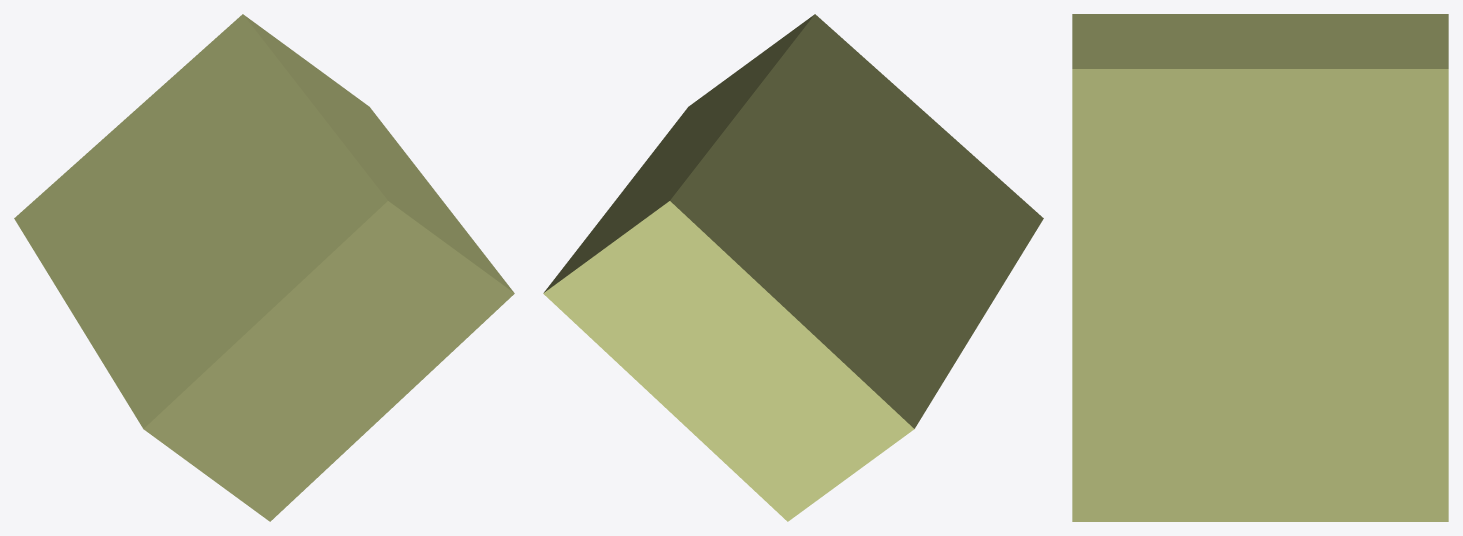
3 renders of one model, left to right at view 1: azimuth 30°, elevation 25°; view 2: azimuth 150°, elevation 25°; view 3: azimuth 270°, elevation 25°, orthographic. The views are drawn at different scales.
Parts seen in each view (by area): view 1: 0_0_1_1_2_1_2_3_2_1; view 2: 0_0_1_1_2_1_2_3_2_1; view 3: 0_0_1_1_2_1_2_3_2_1.
Boxes of the visible parts, x1=… form: 0_0_1_1_2_1_2_3_2_1: x1=14, y1=14, x2=514, y2=521; 0_0_1_1_2_1_2_3_2_1: x1=543, y1=14, x2=1043, y2=521; 0_0_1_1_2_1_2_3_2_1: x1=1072, y1=14, x2=1448, y2=521.
Bounding box in the file's own units: 15.33 × 15.31 × 9.
